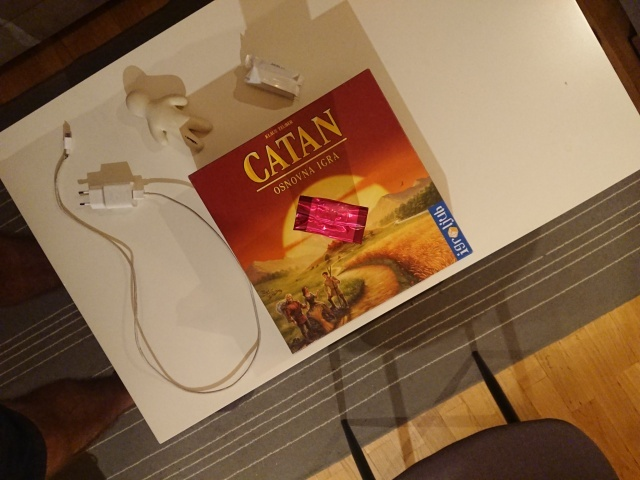Barcaffe Classic Original 225g: (291, 192, 371, 246)
